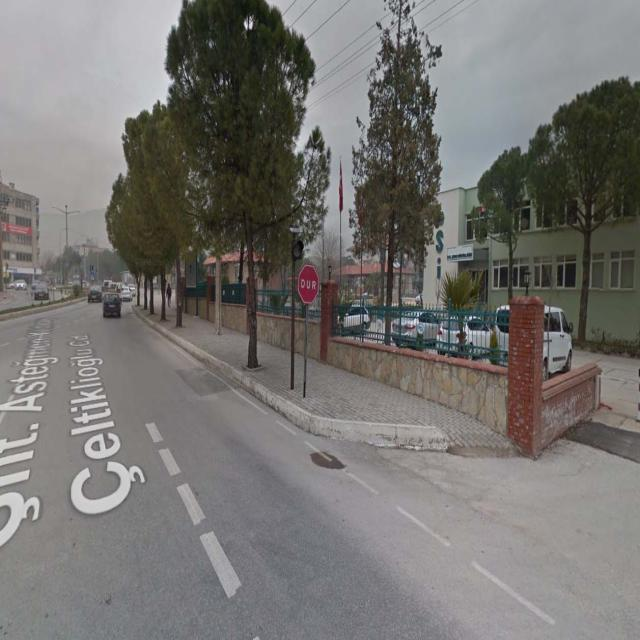dur: (298, 265, 319, 304)
